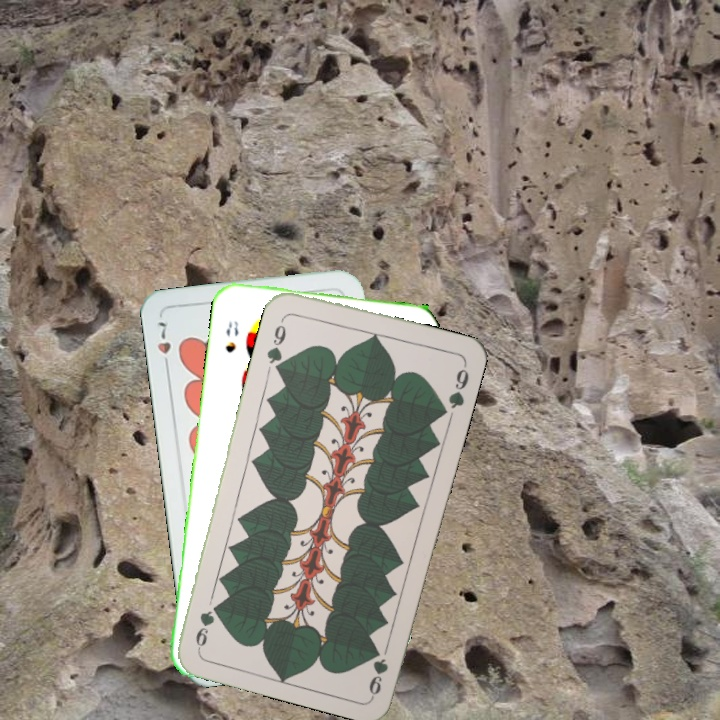G9: (262, 312, 290, 371), (364, 644, 391, 698)
H7: (153, 316, 174, 373)
S8: (221, 316, 241, 355)
